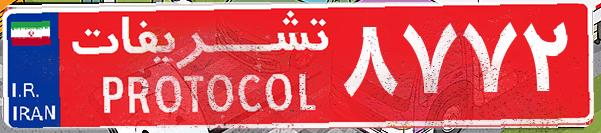2: (520, 20, 580, 115)
7: (400, 20, 460, 115), (460, 20, 520, 115)
8: (340, 20, 400, 115)
تشریفات: (60, 8, 340, 125)
